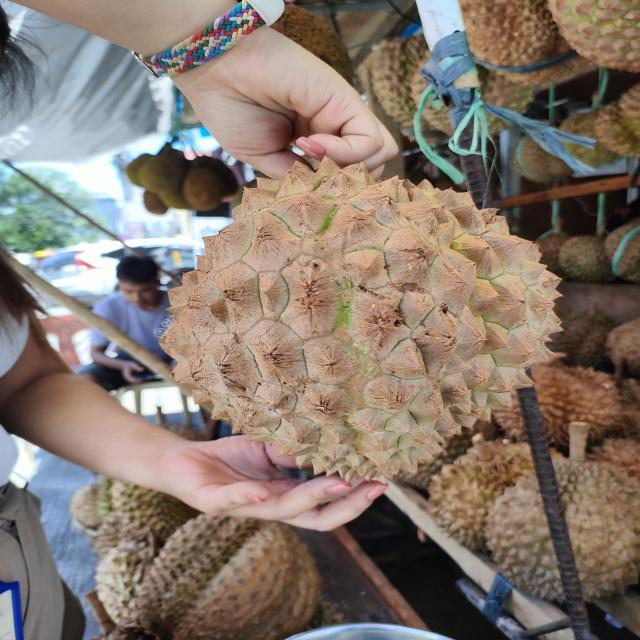mature: (153, 158, 572, 489)
